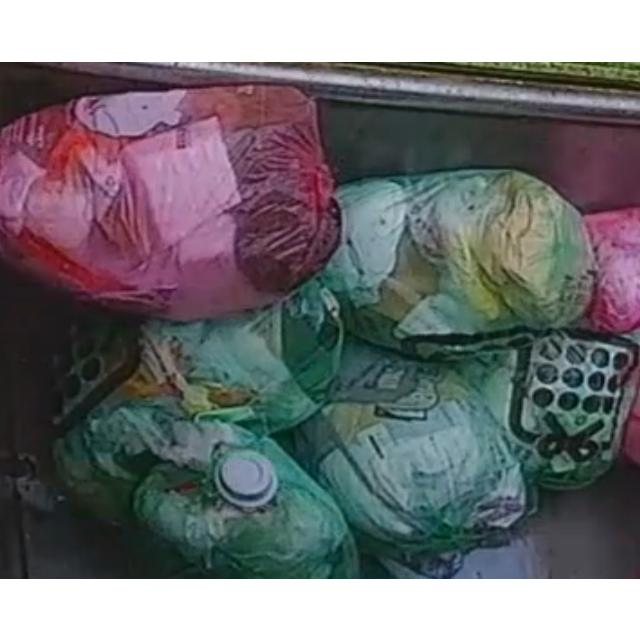general_trashbag: (58, 401, 359, 577), (322, 168, 592, 355), (295, 337, 526, 550), (406, 330, 639, 489), (119, 278, 344, 433)
other_trashbag: (0, 85, 340, 319), (580, 206, 640, 331)
